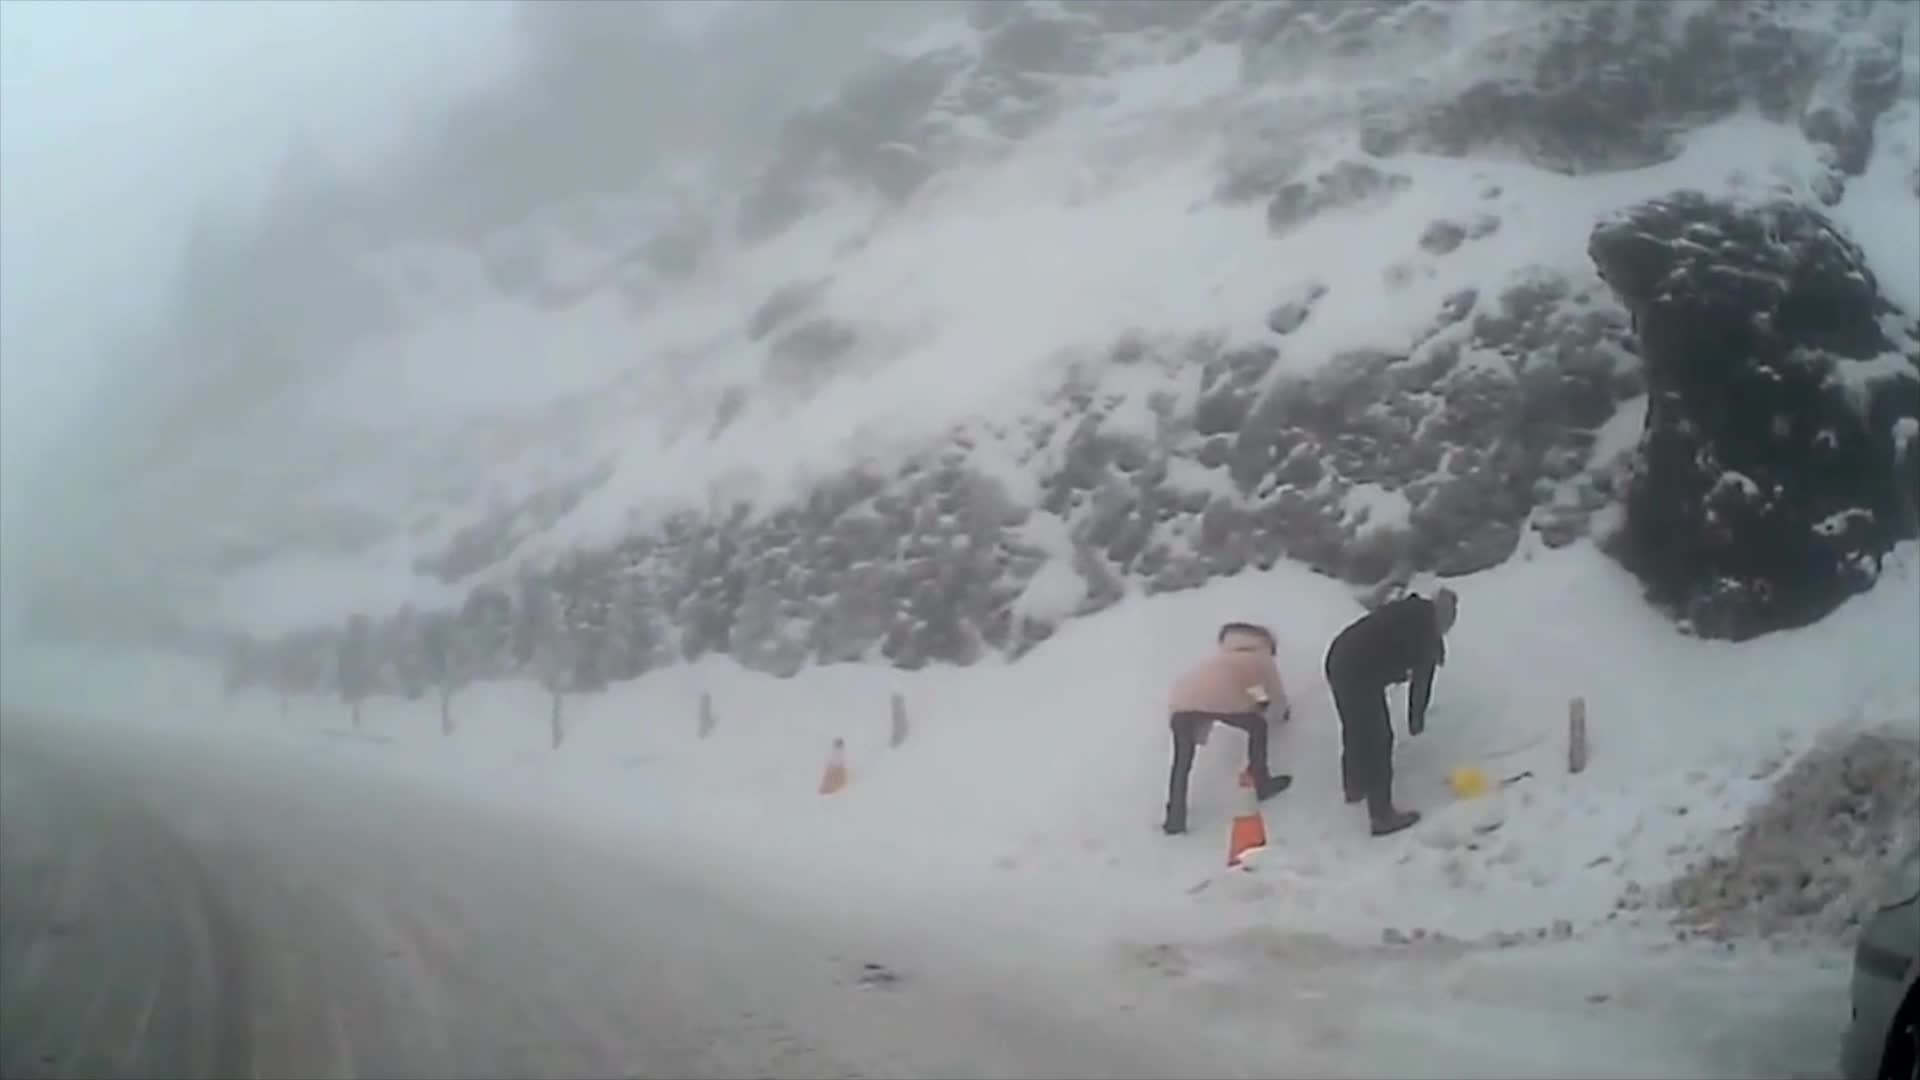pedestrian: (1329, 588, 1463, 833), (1165, 611, 1298, 840)
vehicle: (1835, 868, 1920, 1079)
